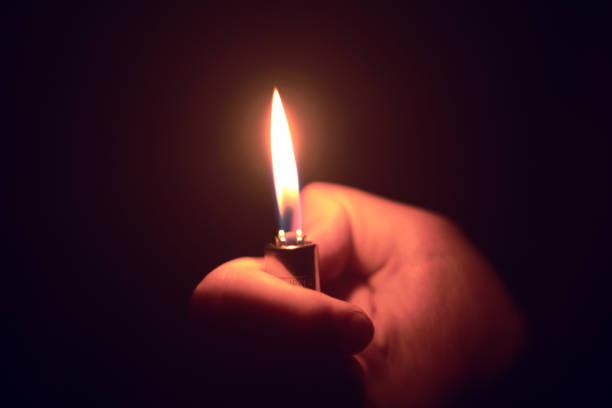Fire: (265, 86, 304, 241)
